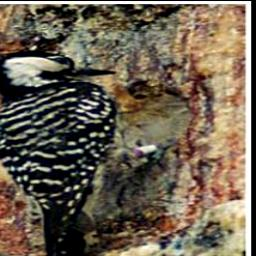Woodpecker: (0, 42, 183, 256)
